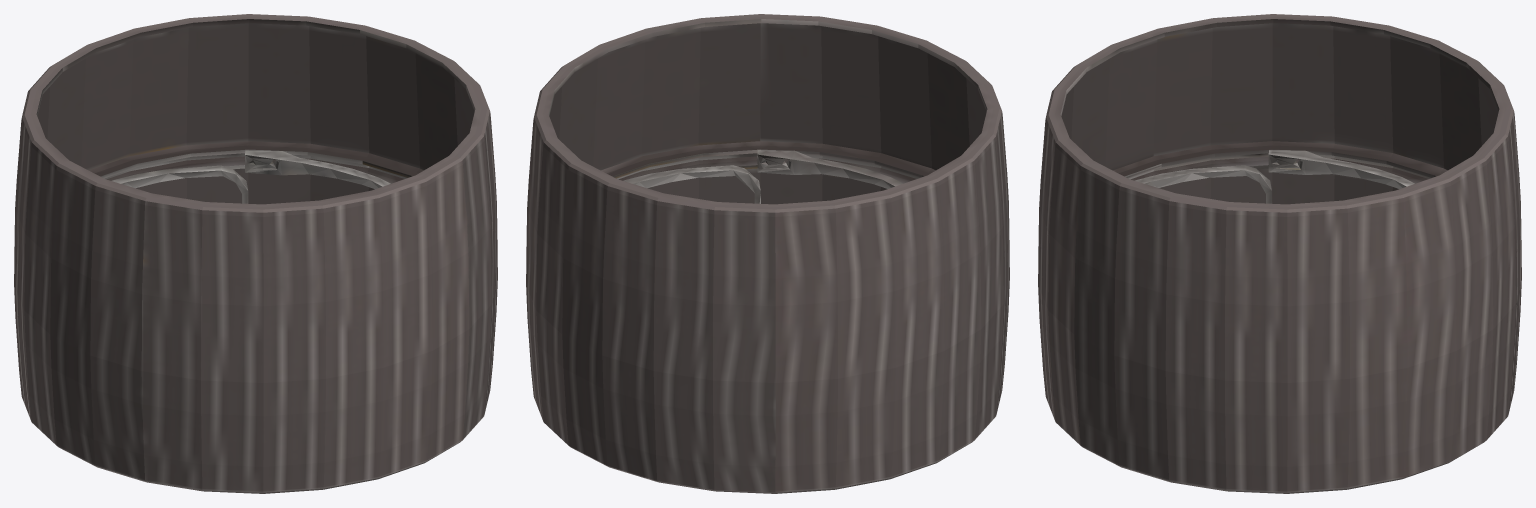
Rendered from Wheel_RightMiddle.gltf.
The picture shows the model from 3 angles, left to right: view 1: azimuth 30°, elevation 25°; view 2: azimuth 150°, elevation 25°; view 3: azimuth 270°, elevation 25°; orthographic projection.
Visible parts, largest first — view 1: Mesh_0; view 2: Mesh_0; view 3: Mesh_0.
Part boxes in pixels (x1,y1,x2,y2): Mesh_0: [14, 14, 497, 493]; Mesh_0: [526, 14, 1009, 493]; Mesh_0: [1038, 14, 1521, 493].
Bounding box in the file's own units: 0.5096 × 0.3306 × 0.5096.
Materials: 1 (1 with a texture image).
